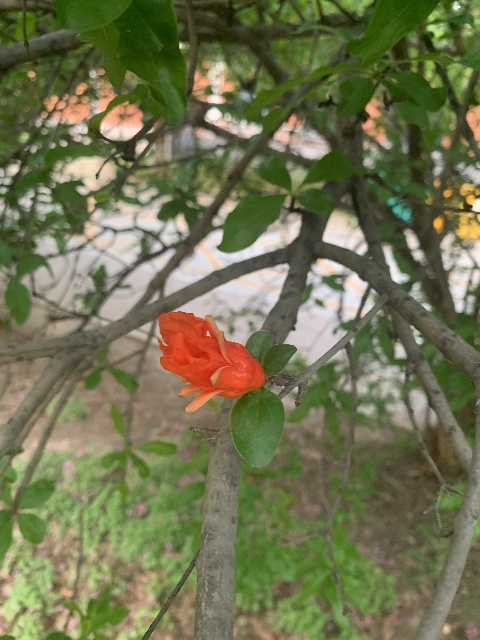flower: (156, 311, 266, 412)
